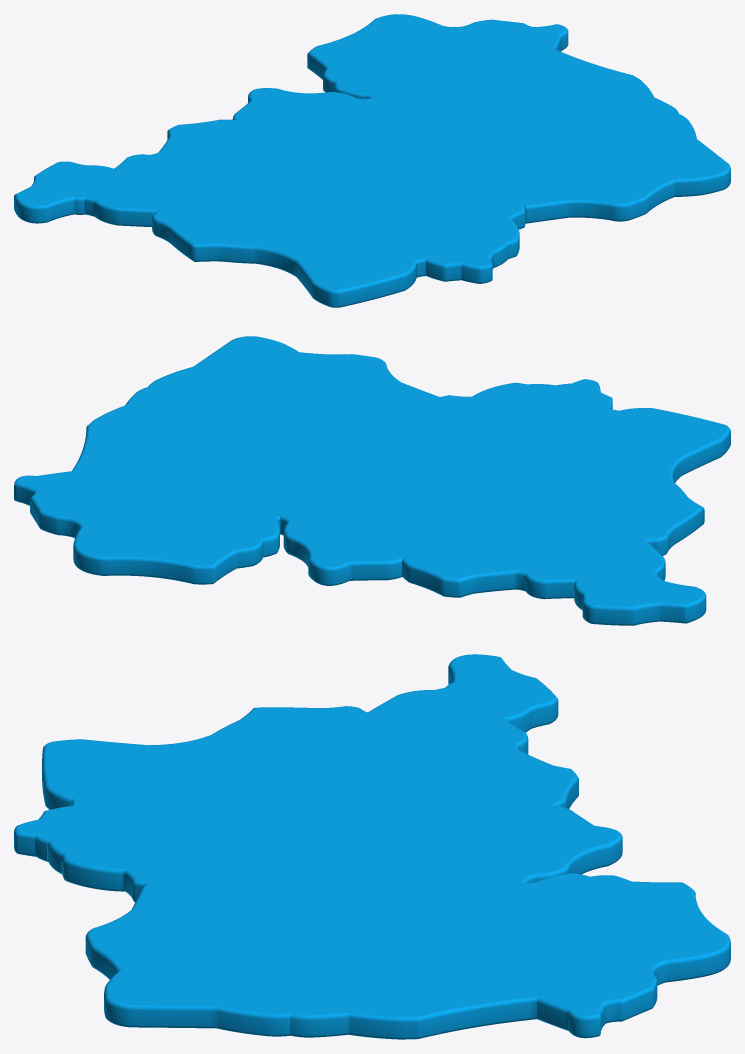
Rendered from mesa.glb.
The picture shows the model from 3 angles, top to bottom: view 1: azimuth 30°, elevation 25°; view 2: azimuth 150°, elevation 25°; view 3: azimuth 270°, elevation 25°; orthographic projection. The views are drawn at different scales.
Visible parts, largest first — view 1: node_id3; view 2: node_id3; view 3: node_id3.
Boxes of the visible parts, x1,y1,x2,y2 form: node_id3: (14, 14, 730, 307); node_id3: (14, 336, 730, 625); node_id3: (14, 654, 730, 1039).
Bounding box in the file's own units: 0.512 × 0.0145 × 0.4242.
Materials: 1 (1 with a texture image).
